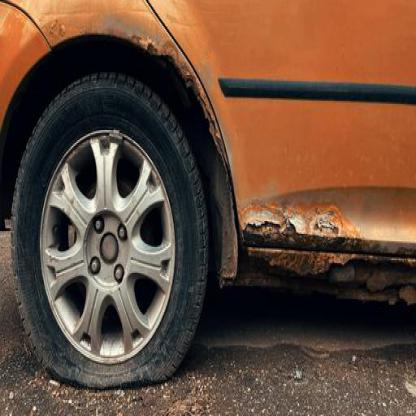Tire: (10, 71, 210, 388)
